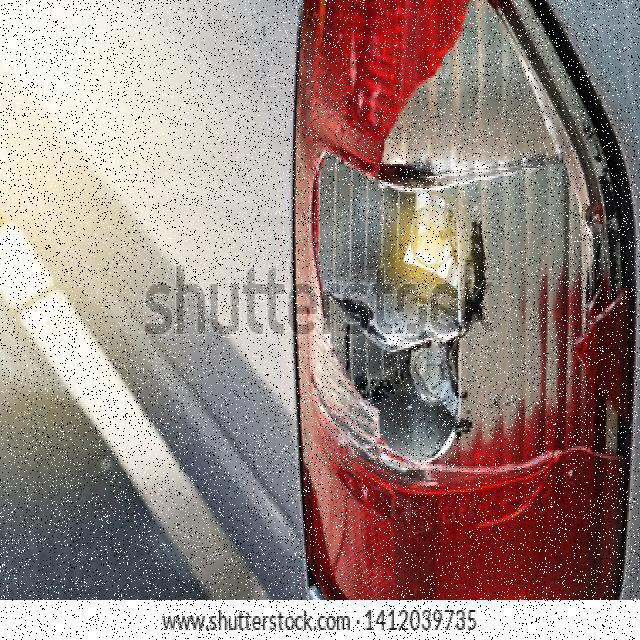Taillight-Damage: (292, 6, 588, 552)
